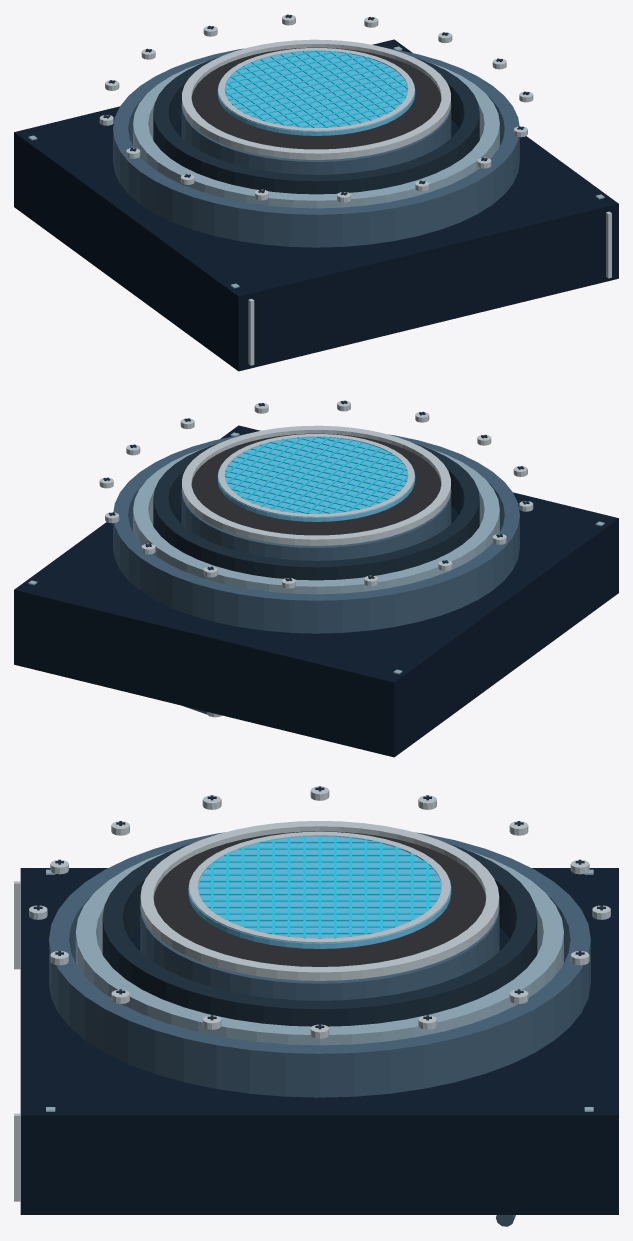
The model's file is 03_L74_PhotoresistSpinCoatingBowl.fbx.
The picture shows the model from 3 angles, top to bottom: view 1: azimuth 30°, elevation 25°; view 2: azimuth 150°, elevation 25°; view 3: azimuth 270°, elevation 25°; orthographic projection. The views are drawn at different scales.
Visible parts, largest first — view 1: PhotoresistSpinCoatingBowl, PhotoresistSpinCoatingBowl_Part_0013, PhotoresistSpinCoatingBowl_Part_0012, PhotoresistSpinCoatingBowl_Part_0011, PhotoresistSpinCoatingBowl_Part_0014; view 2: PhotoresistSpinCoatingBowl, PhotoresistSpinCoatingBowl_Part_0013, PhotoresistSpinCoatingBowl_Part_0012, PhotoresistSpinCoatingBowl_Part_0011, PhotoresistSpinCoatingBowl_Part_0014; view 3: PhotoresistSpinCoatingBowl, PhotoresistSpinCoatingBowl_Part_0013, PhotoresistSpinCoatingBowl_Part_0012, PhotoresistSpinCoatingBowl_Part_0011, PhotoresistSpinCoatingBowl_Part_0014, PhotoresistSpinCoatingBowl_Part_0029, PhotoresistSpinCoatingBowl_Part_0025, PhotoresistSpinCoatingBowl_Part_0027, PhotoresistSpinCoatingBowl_Part_0031, PhotoresistSpinCoatingBowl_Part_0033, PhotoresistSpinCoatingBowl_Part_0035, PhotoresistSpinCoatingBowl_Part_0021.
Boxes of the visible parts, x1,y1,x2,y2 form: PhotoresistSpinCoatingBowl: [14, 14, 618, 371]; PhotoresistSpinCoatingBowl_Part_0013: [217, 51, 415, 135]; PhotoresistSpinCoatingBowl_Part_0012: [182, 39, 450, 159]; PhotoresistSpinCoatingBowl_Part_0011: [191, 47, 441, 149]; PhotoresistSpinCoatingBowl_Part_0014: [218, 48, 414, 131]; PhotoresistSpinCoatingBowl: [14, 400, 618, 757]; PhotoresistSpinCoatingBowl_Part_0013: [217, 437, 415, 521]; PhotoresistSpinCoatingBowl_Part_0012: [182, 425, 450, 545]; PhotoresistSpinCoatingBowl_Part_0011: [191, 433, 441, 535]; PhotoresistSpinCoatingBowl_Part_0014: [218, 434, 414, 517]; PhotoresistSpinCoatingBowl: [14, 786, 618, 1226]; PhotoresistSpinCoatingBowl_Part_0013: [188, 836, 451, 948]; PhotoresistSpinCoatingBowl_Part_0012: [140, 821, 499, 980]; PhotoresistSpinCoatingBowl_Part_0011: [153, 831, 485, 966]; PhotoresistSpinCoatingBowl_Part_0014: [189, 831, 450, 943]; PhotoresistSpinCoatingBowl_Part_0029: [199, 886, 440, 888]; PhotoresistSpinCoatingBowl_Part_0025: [202, 873, 437, 875]; PhotoresistSpinCoatingBowl_Part_0027: [199, 880, 439, 882]; PhotoresistSpinCoatingBowl_Part_0031: [199, 893, 439, 895]; PhotoresistSpinCoatingBowl_Part_0033: [202, 899, 437, 901]; PhotoresistSpinCoatingBowl_Part_0035: [206, 906, 432, 908]; PhotoresistSpinCoatingBowl_Part_0021: [213, 860, 426, 862].
Size of the model in its own units: 218 by 102 by 226.
